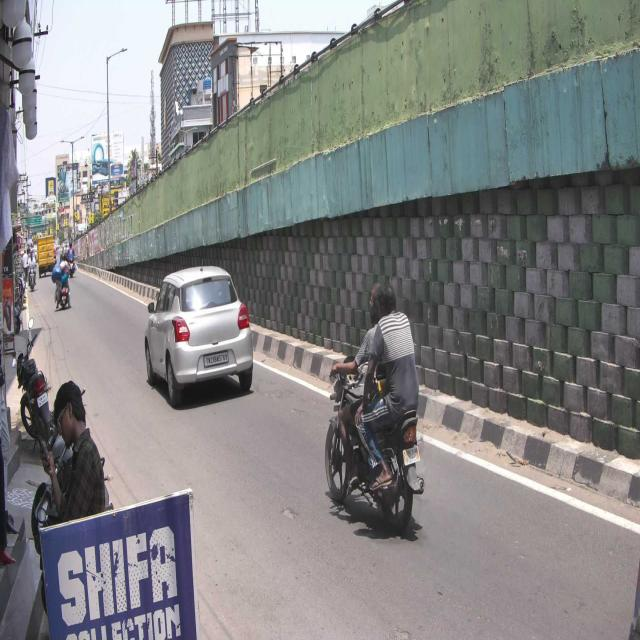double_rider: (323, 281, 425, 534)
